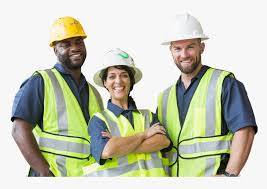Person_wearing_helmet: (87, 47, 146, 85), (159, 11, 211, 53), (50, 14, 88, 49)
